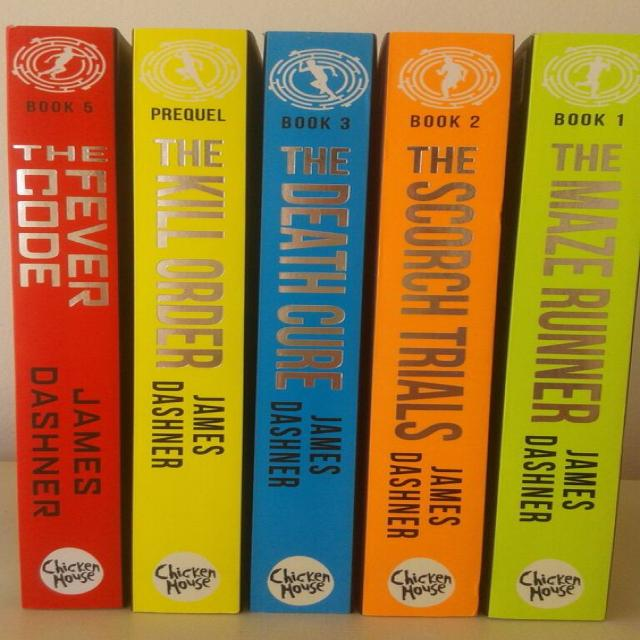book: (487, 33, 639, 620), (361, 32, 512, 617), (250, 31, 374, 613), (130, 28, 251, 613), (7, 26, 123, 609)
